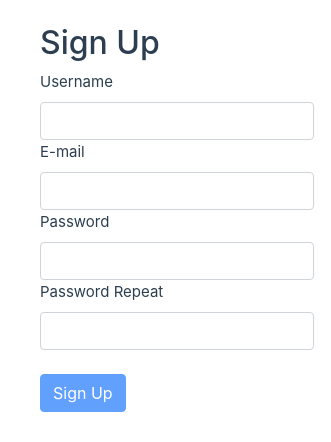
Test case: Sign Up Page › Interactions › should enable the button when password fields have same values
The width and height of the screenshot is (331, 442).
Step 1. Type "P4ssword" into the password field labelled "Password" → [177, 261], box [40,242,314,280]
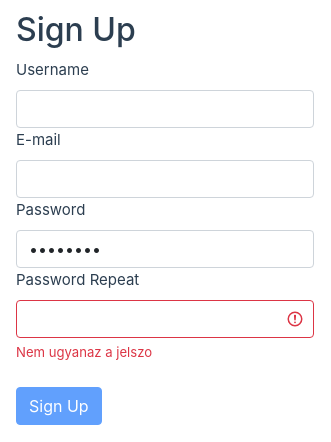
Step 2. Type "P4ssword" into the password field labelled "Password Repeat" → [165, 319], box [16,300,314,338]
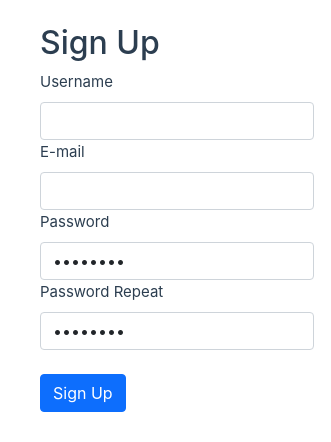
Check: the button "Sign Up" is enabled, box [40,374,126,412]
